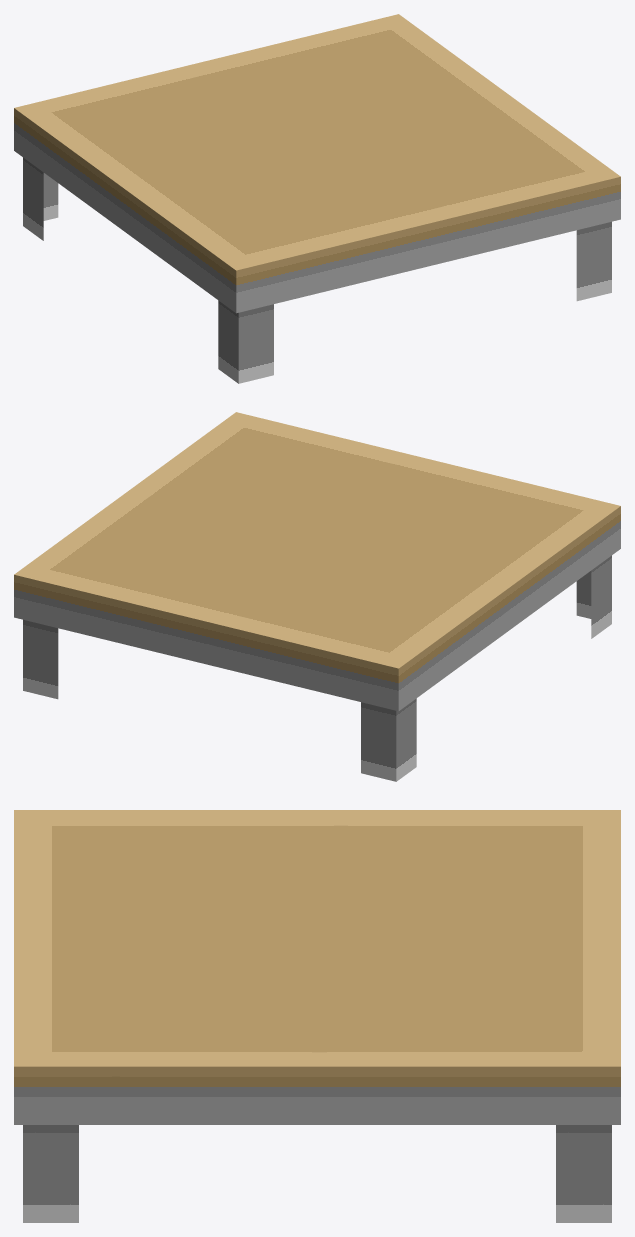
Rendered from table.obj.
3 renders of one model, top to bottom at view 1: azimuth 30°, elevation 25°; view 2: azimuth 150°, elevation 25°; view 3: azimuth 270°, elevation 25°, orthographic. The views are drawn at different scales.
Visible parts, largest first — view 1: polygon0.009; view 2: polygon0.009; view 3: polygon0.009.
Boxes of the visible parts, left/top/right/bottom form: polygon0.009: left=14, top=14, right=620, bottom=383; polygon0.009: left=14, top=412, right=620, bottom=781; polygon0.009: left=14, top=810, right=620, bottom=1222.
Size of the model in its own units: 1.6 by 0.4655 by 1.6.
1 material, 1 textured.
